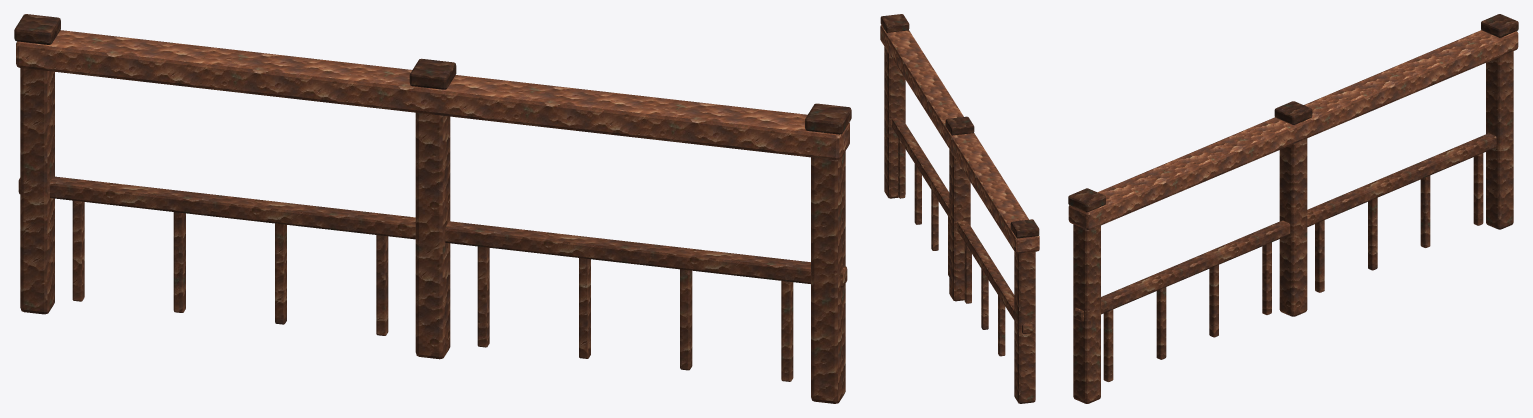
The model's file is railing_diagonal__copper_ingot.glb.
The picture shows the model from 3 angles, left to right: view 1: azimuth 30°, elevation 25°; view 2: azimuth 150°, elevation 25°; view 3: azimuth 270°, elevation 25°; orthographic projection. The views are drawn at different scales.
Parts seen in each view (by area): view 1: model; view 2: model; view 3: model.
Part boxes in pixels (x1=…): model: x1=14, y1=14, x2=851, y2=403; model: x1=880, y1=14, x2=1039, y2=403; model: x1=1068, y1=14, x2=1518, y2=403.
Bounding box in the file's own units: 2.09 × 1.04 × 2.09.
3 materials, 3 textured.
